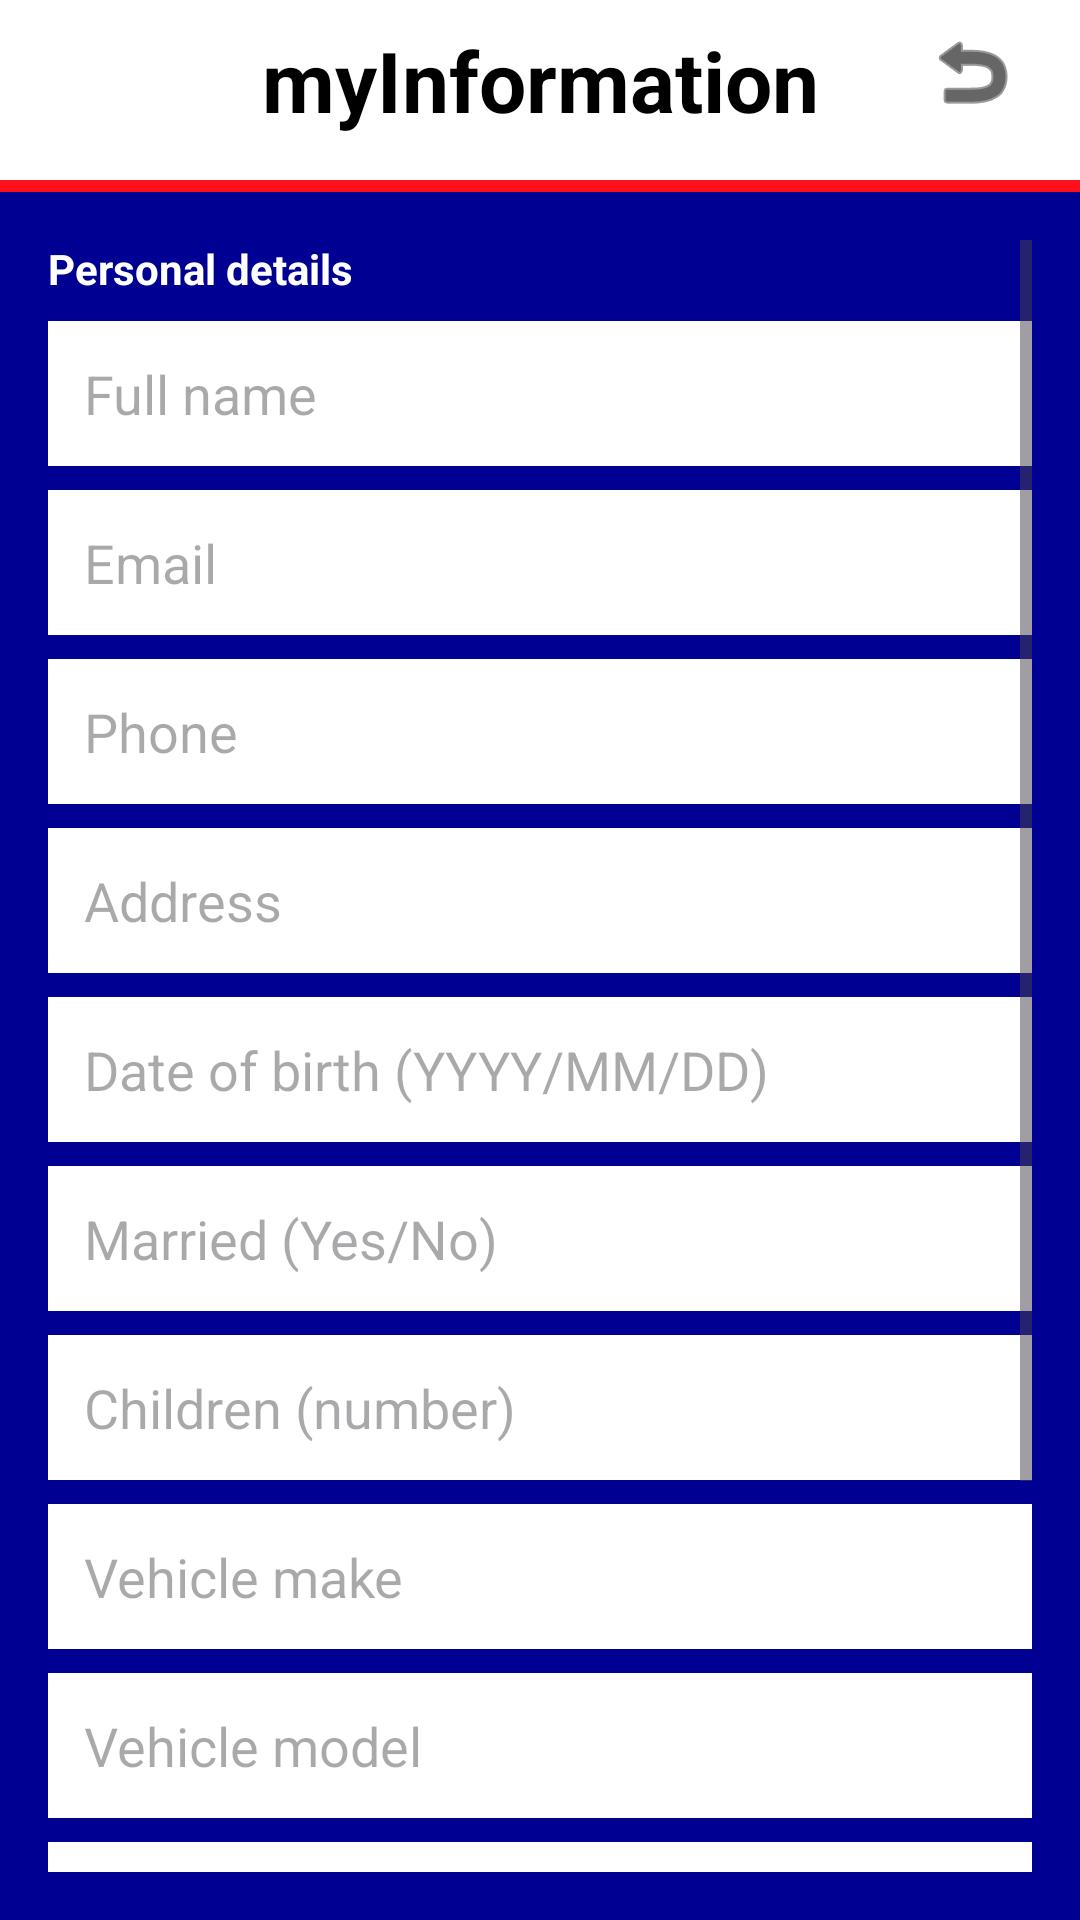

Named icons in this screenshot (1080px x 1920px) and their bounding boxes, detection(x1, y1, x2, y2):
Return: detection(939, 41, 1008, 104)
